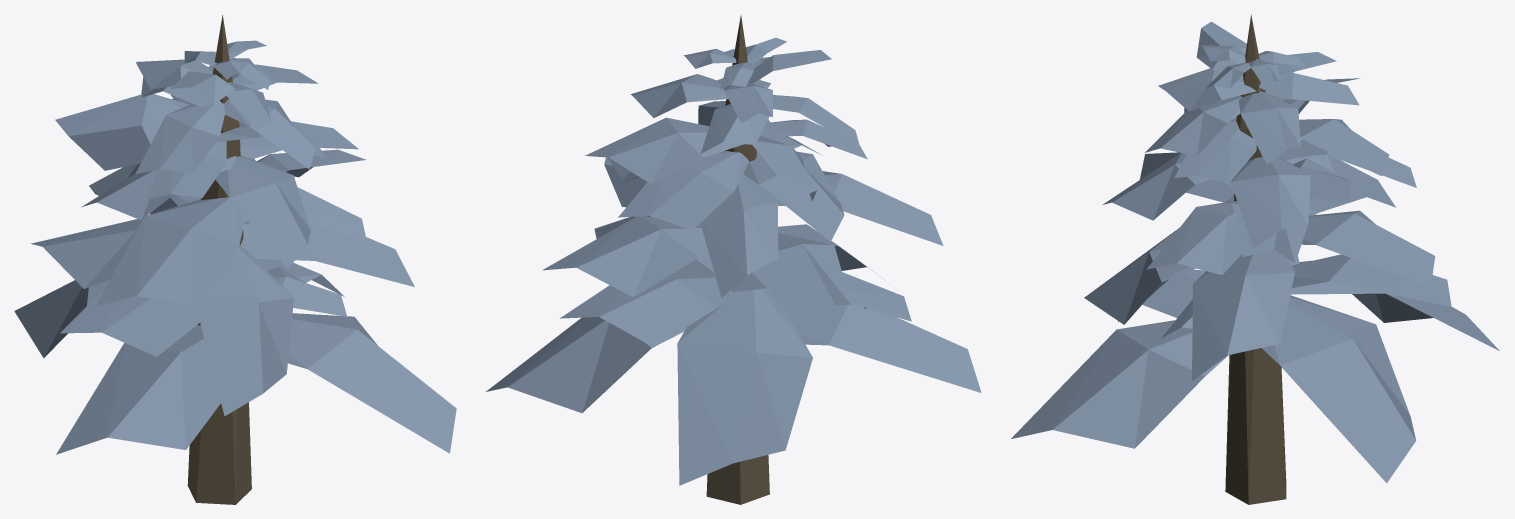
The model's file is Blue_Spruce_5_1.fbx.
The picture shows the model from 3 angles, left to right: view 1: azimuth 30°, elevation 25°; view 2: azimuth 150°, elevation 25°; view 3: azimuth 270°, elevation 25°; orthographic projection.
Parts seen in each view (by area): view 1: Spurce_5_1; view 2: Spurce_5_1; view 3: Spurce_5_1.
Part boxes in pixels (<box>): Spurce_5_1: <box>14,15,456,504</box>; Spurce_5_1: <box>486,15,981,504</box>; Spurce_5_1: <box>1011,14,1499,504</box>.
Bounding box in the file's own units: 471 × 547 × 508.
